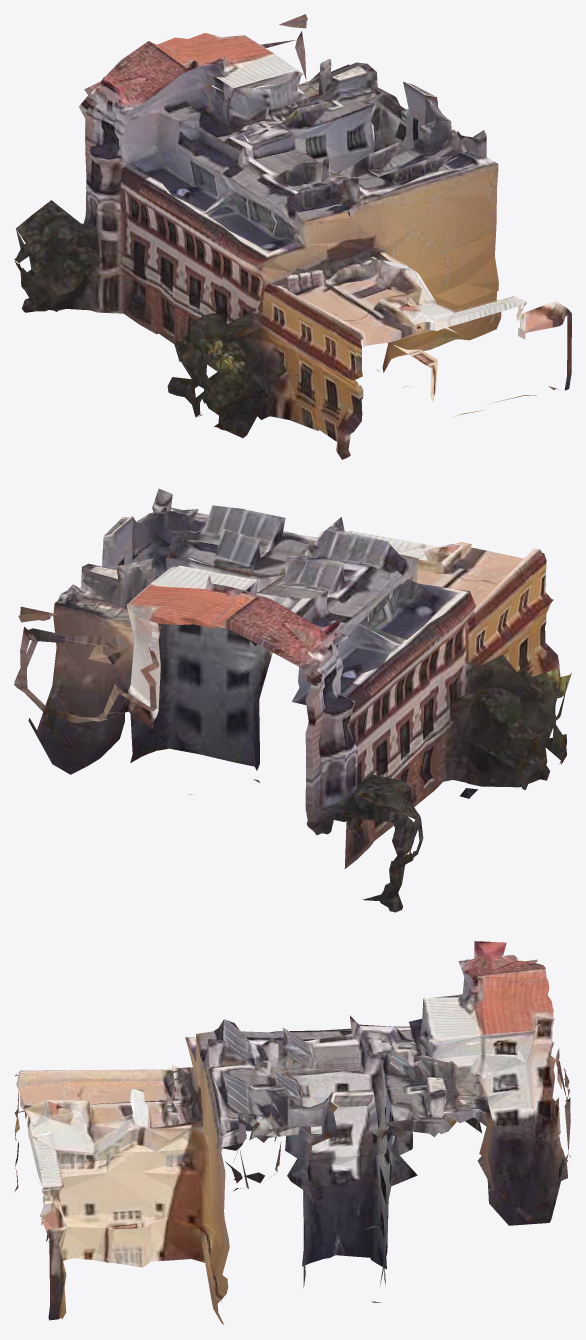
The picture shows the model from 3 angles, top to bottom: view 1: azimuth 30°, elevation 25°; view 2: azimuth 150°, elevation 25°; view 3: azimuth 270°, elevation 25°; orthographic projection. The views are drawn at different scales.
Parts seen in each view (by area): view 1: Mesh_0; view 2: Mesh_0; view 3: Mesh_0.
Boxes of the visible parts, left/top/right/bottom form: Mesh_0: left=14, top=14, right=571, bottom=459; Mesh_0: left=14, top=488, right=571, bottom=912; Mesh_0: left=14, top=941, right=571, bottom=1324.
Bounding box in the file's own units: 31.97 × 21.19 × 40.99.
2 materials, 2 textured.
